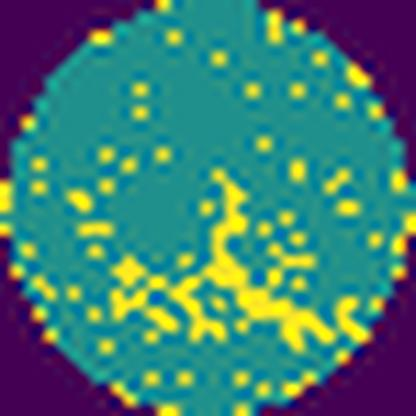Loc: (109, 164, 334, 347)
